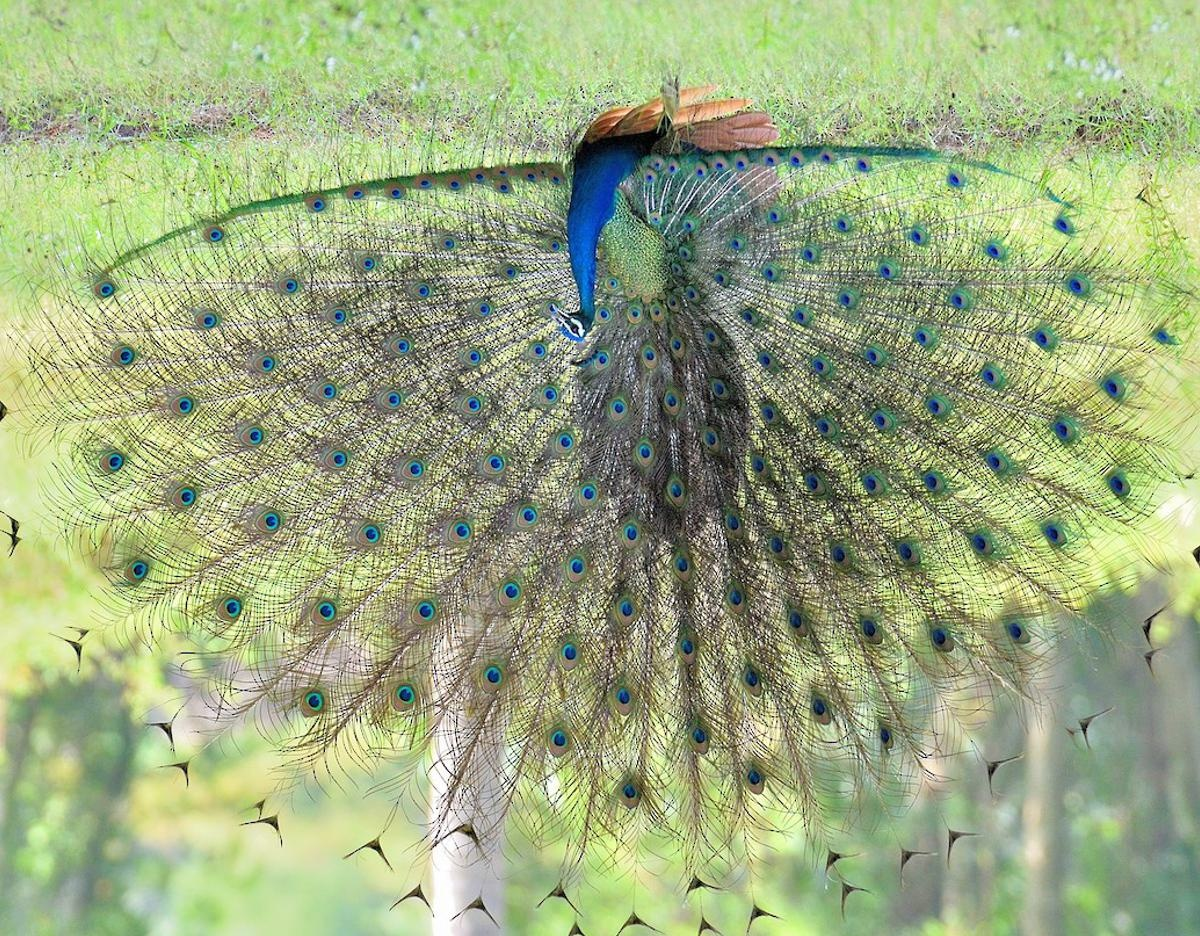peacock: (46, 145, 1200, 860)
